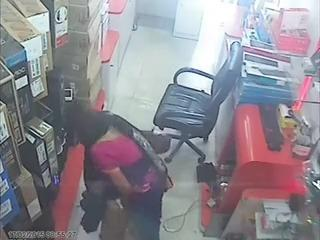shoplifting: (60, 100, 173, 240)
